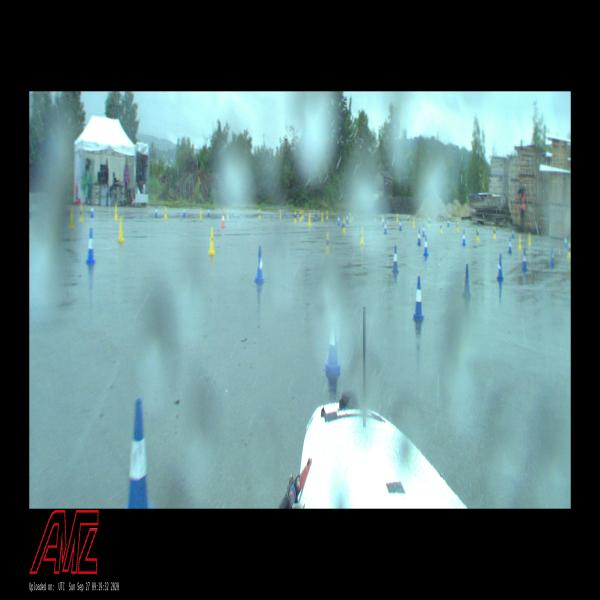blue_cone: (125, 399, 152, 508), (323, 320, 342, 375), (412, 277, 425, 320), (85, 228, 96, 264), (254, 247, 265, 282), (462, 264, 471, 298), (392, 245, 399, 273), (497, 254, 503, 280), (423, 236, 429, 256), (522, 248, 527, 270), (550, 248, 555, 265), (417, 229, 421, 245), (462, 230, 466, 245), (508, 238, 512, 253), (90, 204, 94, 217), (564, 236, 568, 247), (384, 221, 387, 234), (155, 205, 158, 218), (399, 219, 402, 231), (422, 224, 425, 236), (183, 206, 186, 217), (337, 214, 340, 225), (346, 213, 349, 224), (447, 217, 450, 227), (382, 216, 384, 227), (512, 228, 514, 238), (208, 208, 210, 217), (407, 212, 409, 220), (284, 208, 286, 216)
orange_cone: (221, 211, 225, 228)
yellow_cone: (208, 227, 216, 254), (117, 217, 125, 241), (325, 233, 330, 254), (70, 208, 74, 228), (360, 228, 364, 244), (567, 242, 571, 258), (342, 218, 346, 233), (114, 205, 118, 220), (164, 206, 168, 219), (518, 235, 522, 248), (80, 206, 83, 222), (476, 228, 479, 241), (456, 221, 459, 233), (493, 226, 496, 238), (309, 214, 312, 226), (528, 233, 531, 244), (299, 211, 302, 221), (321, 211, 324, 221), (301, 210, 304, 219), (294, 211, 296, 223), (200, 208, 202, 220), (259, 208, 261, 219), (440, 222, 442, 233), (280, 209, 282, 219), (413, 218, 415, 228), (408, 214, 410, 224), (326, 210, 328, 219), (396, 213, 398, 222)
